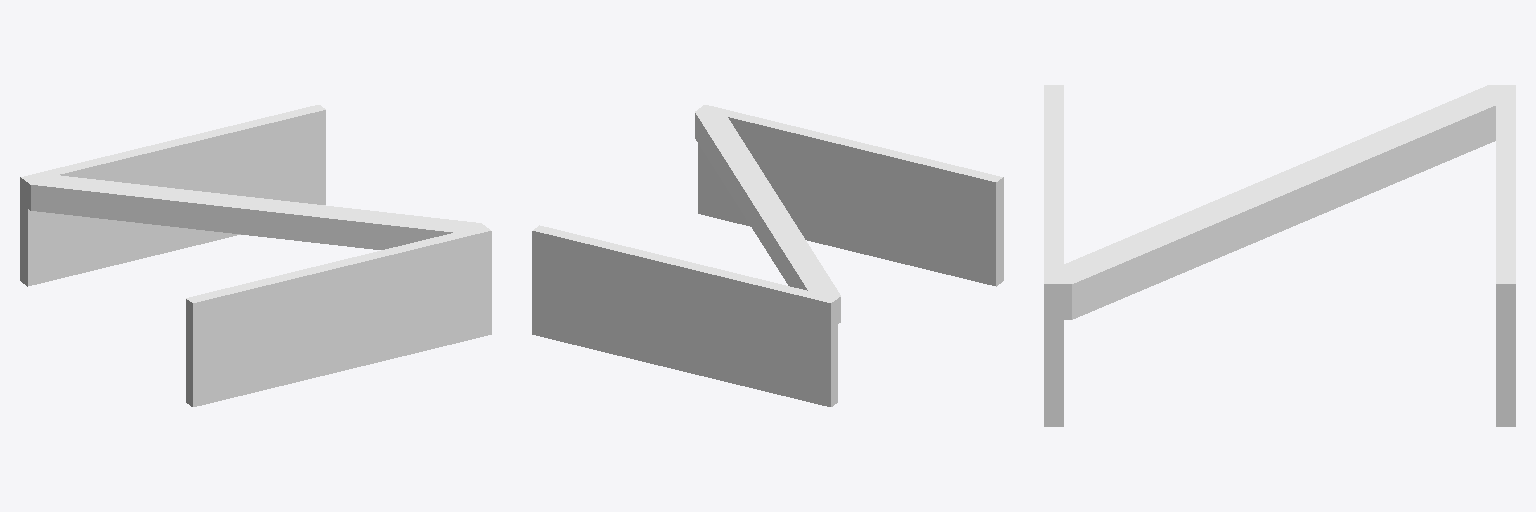
robot.urdf — terrain-rail_lift:
<?xml version="1.0" encoding="utf-8"?>
<!-- This URDF was automatically created by SolidWorks to URDF Exporter! Originally created by [author] ([email redacted]) 
     Commit Version: 1.6.0-4-g7f85cfe  Build Version: 1.6.7995.38578
     For more information, please see http://wiki.ros.org/sw_urdf_exporter -->
<robot
  name="terrain-rail_lift">
  <link
    name="base_link">
    <inertial>
      <origin
        xyz="0.6 -0.6 0.23832"
        rpy="0 0 0" />
      <mass
        value="36.104" />
      <inertia
        ixx="1.419"
        ixy="1.0397"
        ixz="1.4086E-15"
        iyy="4.639"
        iyz="-2.2675E-16"
        izz="5.3258" />
    </inertial>
    <visual>
      <origin
        xyz="0 0 0"
        rpy="0 0 0" />
      <geometry>
        <mesh
          filename="package://terrain-rail_lift/meshes/base_link.STL" />
      </geometry>
      <material
        name="">
        <color
          rgba="1 1 1 1" />
      </material>
    </visual>
    <collision>
      <origin
        xyz="0 0 0"
        rpy="0 0 0" />
      <geometry>
        <mesh
          filename="package://terrain-rail_lift/meshes/base_link.STL" />
      </geometry>
    </collision>
  </link>
</robot>

--- What the picture shows (computed from the rendered views, not written in the file) ---
The picture shows the robot from 3 angles, left to right: view 1: azimuth 30°, elevation 25°; view 2: azimuth 150°, elevation 25°; view 3: azimuth 270°, elevation 25°; orthographic projection.
Model terrain-rail_lift with 1 links and 0 joints (none), rooted at base_link, posed all joints at 0.
Links seen in each view (by area): view 1: base_link; view 2: base_link; view 3: base_link.
Boxes of the visible links, x1,y1,x2,y2 form: base_link: (20,105,491,406); base_link: (532,105,1003,406); base_link: (1044,85,1515,426).
Size in the robot's own frame: 1.2 by 1.2 by 0.4 metres.
Meshes: 1 distinct files referenced, 1 mesh visuals loaded (1 binary STL).